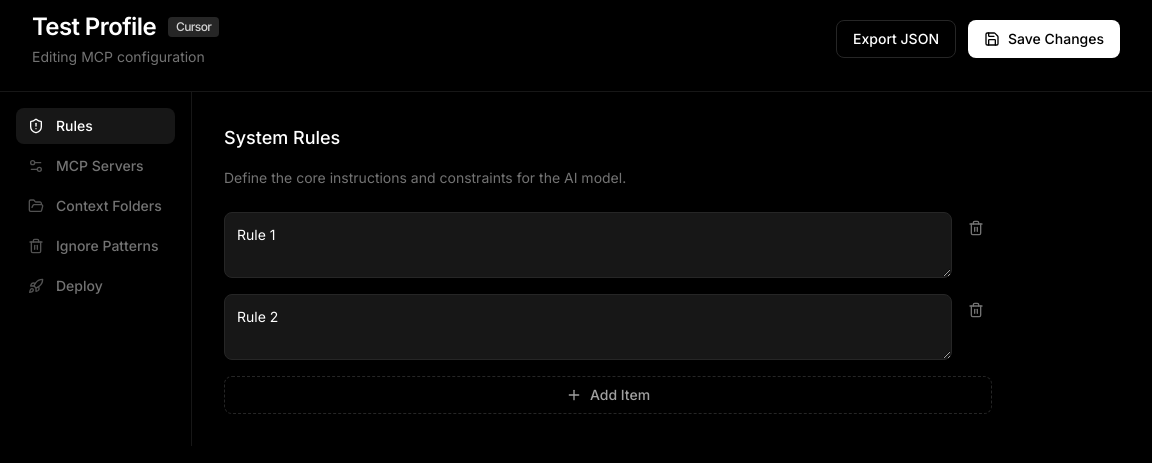
Test case: EditorView › shows "Saved!" feedback after clicking Save Changes
Click the button with test id "save-btn".
click(1044, 39)  # box [968,20,1120,58]
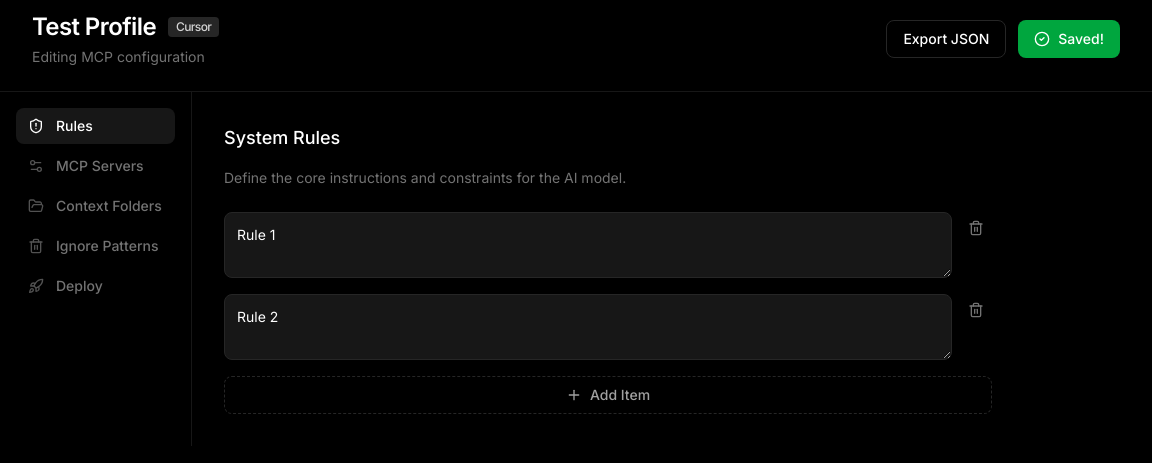
Check: the text "Saved!" is shown, box [1058,29,1104,49]
